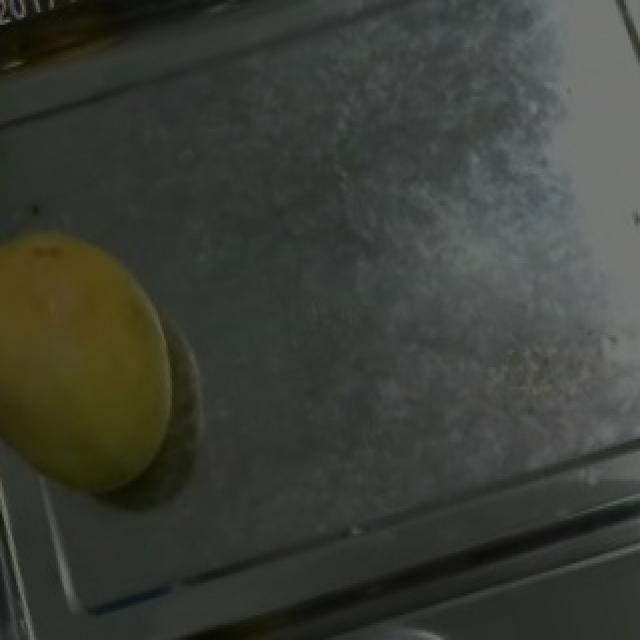fruit: (0, 188, 236, 528)
